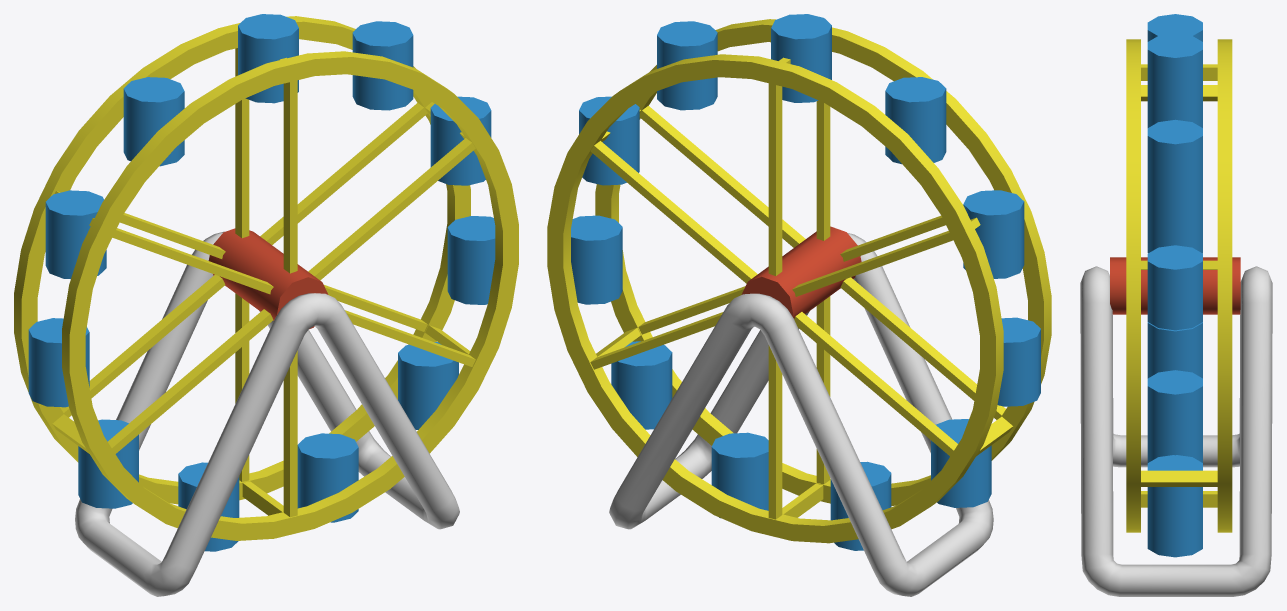
File: carousel02_s03.FBX
3 views of the same model, side by side, from view 1: azimuth 30°, elevation 25°; view 2: azimuth 150°, elevation 25°; view 3: azimuth 270°, elevation 25° (orthographic). The views are drawn at different scales.
Parts seen in each view (by area): view 1: carousel02_p01_s003, carousel02_s03, carousel02_p05_s003, carousel02_p07_s003, carousel02_p03_s003, carousel02_p12_s003, carousel02_p11_s003, carousel02_p06_s003, carousel02_p02_s003, carousel02_p10_s003, carousel02_p04_s003, carousel02_p09_s003 (+1 smaller); view 2: carousel02_p01_s003, carousel02_s03, carousel02_p05_s003, carousel02_p12_s003, carousel02_p11_s003, carousel02_p06_s003, carousel02_p03_s003, carousel02_p07_s003, carousel02_p02_s003, carousel02_p10_s003, carousel02_p04_s003, carousel02_p09_s003 (+1 smaller); view 3: carousel02_s03, carousel02_p01_s003, carousel02_p04_s003, carousel02_p02_s003, carousel02_p05_s003, carousel02_p03_s003, carousel02_p06_s003, carousel02_p10_s003, carousel02_p09_s003, carousel02_p12_s003, carousel02_p07_s003, carousel02_p11_s003 (+1 smaller).
Part boxes in pixels (<box>): carousel02_p01_s003: <box>14,16,518,540</box>; carousel02_s03: <box>75,231,459,596</box>; carousel02_p05_s003: <box>447,216,495,304</box>; carousel02_p07_s003: <box>297,433,358,522</box>; carousel02_p03_s003: <box>352,21,413,110</box>; carousel02_p12_s003: <box>123,77,184,166</box>; carousel02_p11_s003: <box>45,190,106,279</box>; carousel02_p06_s003: <box>398,342,458,429</box>; carousel02_p02_s003: <box>238,14,298,103</box>; carousel02_p10_s003: <box>28,318,89,407</box>; carousel02_p04_s003: <box>430,96,491,185</box>; carousel02_p09_s003: <box>78,419,138,508</box>; carousel02_p01_s003: <box>547,19,1051,543</box>; carousel02_s03: <box>609,233,993,596</box>; carousel02_p05_s003: <box>571,215,622,304</box>; carousel02_p12_s003: <box>885,77,946,164</box>; carousel02_p11_s003: <box>963,190,1024,278</box>; carousel02_p06_s003: <box>611,341,672,429</box>; carousel02_p03_s003: <box>657,21,717,110</box>; carousel02_p07_s003: <box>711,432,768,518</box>; carousel02_p02_s003: <box>771,14,831,102</box>; carousel02_p10_s003: <box>997,317,1040,406</box>; carousel02_p04_s003: <box>579,96,639,185</box>; carousel02_p09_s003: <box>931,419,991,507</box>; carousel02_s03: <box>1080,266,1272,596</box>; carousel02_p01_s003: <box>1110,39,1240,532</box>; carousel02_p04_s003: <box>1147,245,1202,330</box>; carousel02_p02_s003: <box>1147,33,1202,118</box>; carousel02_p05_s003: <box>1147,370,1202,455</box>; carousel02_p03_s003: <box>1147,119,1202,204</box>; carousel02_p06_s003: <box>1147,455,1202,539</box>; carousel02_p10_s003: <box>1147,196,1202,253</box>; carousel02_p09_s003: <box>1147,322,1202,378</box>; carousel02_p12_s003: <box>1147,14,1202,41</box>; carousel02_p07_s003: <box>1147,531,1202,557</box>; carousel02_p11_s003: <box>1147,110,1202,127</box>.
Bounding box in the file's own units: 1086 × 404 × 1125.
1 material, 1 textured.
